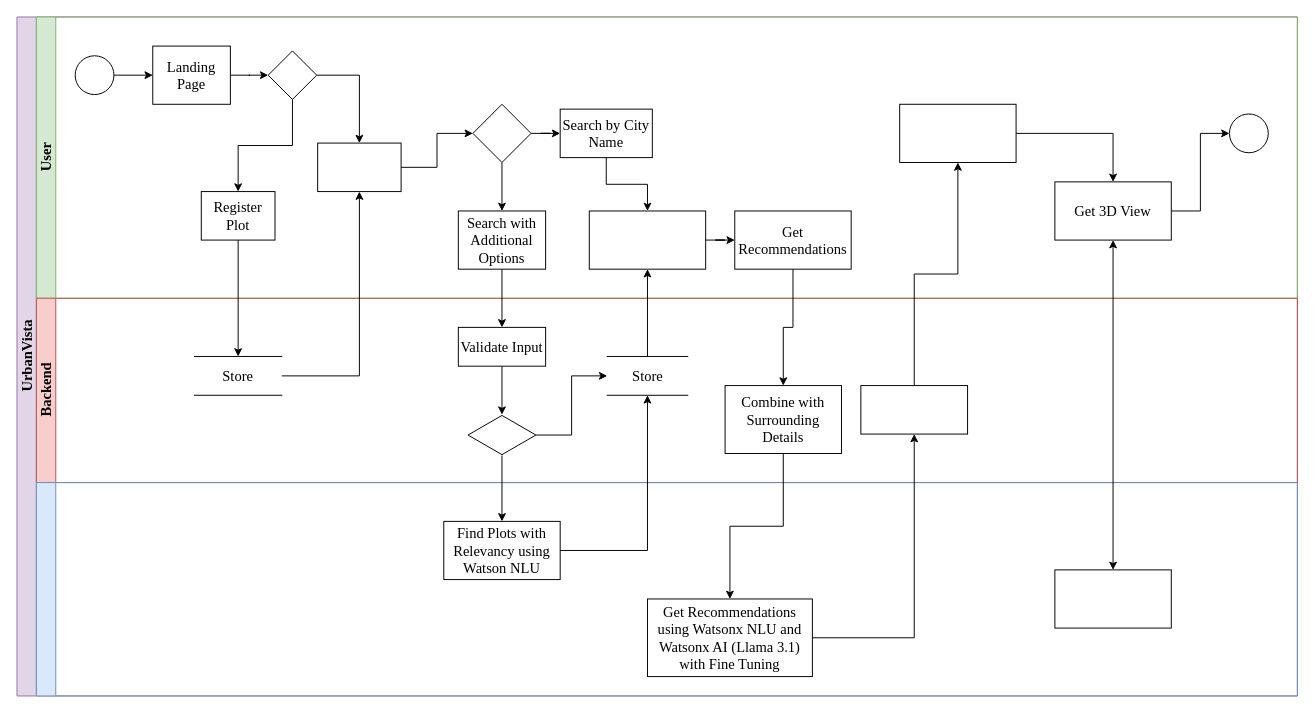
Some shapes in this 1314 by 713 pixel diagram are drawn without their labels. Each missing label, with the box of its shape:
AI Models: (35, 482, 1297, 696)
Empty Plots: (588, 210, 706, 269)
Generate 3D View using Fine Tuned Model: (1054, 569, 1171, 628)
Refine Input for Formatting: (860, 385, 968, 434)
Search for Plot: (317, 142, 401, 192)
Show Recommendations with Polls: (899, 103, 1016, 162)
